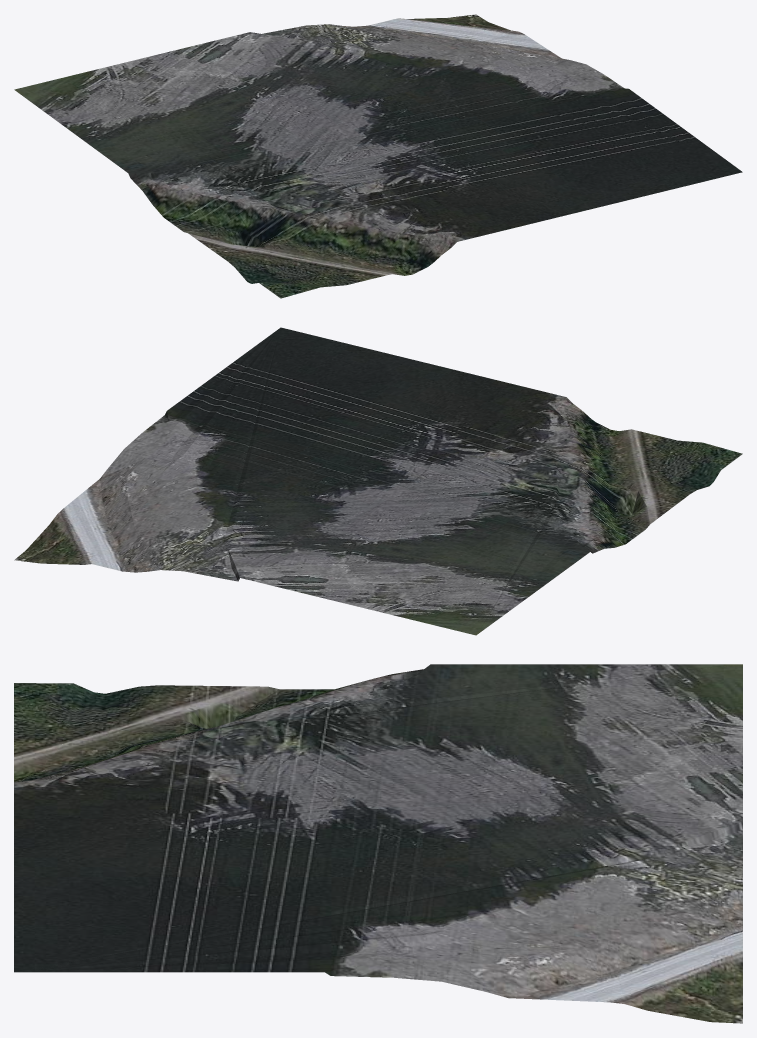
File: map_15_8176_13778.dae
The picture shows the model from 3 angles, top to bottom: view 1: azimuth 30°, elevation 25°; view 2: azimuth 150°, elevation 25°; view 3: azimuth 270°, elevation 25°; orthographic projection. The views are drawn at different scales.
Visible parts, largest first — view 1: Ter0; view 2: Ter0; view 3: Ter0.
Part boxes in pixels (x1=…): Ter0: x1=14, y1=14, x2=742, y2=298; Ter0: x1=14, y1=327, x2=742, y2=635; Ter0: x1=14, y1=664, x2=742, y2=1023.
Size of the model in its own units: 63.88 by 63.88 by 4.95.
Materials: 3 (3 with a texture image).
